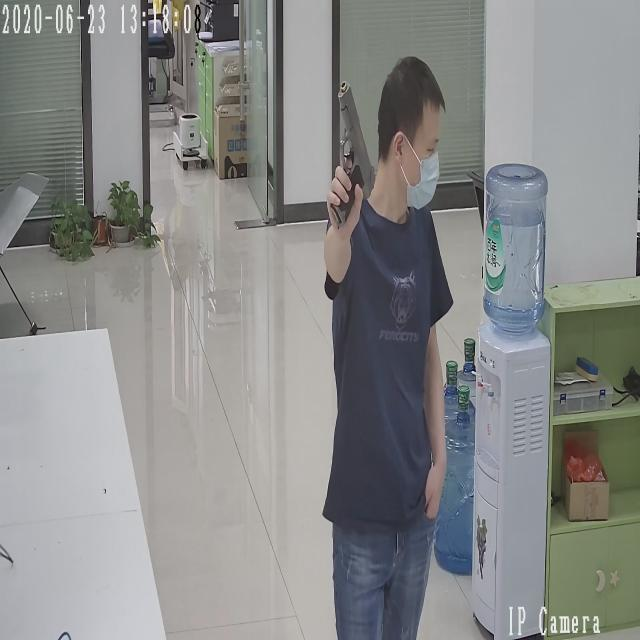gun-knife-thesis - v11 Yolov5 augmented: (330, 77, 376, 231)
